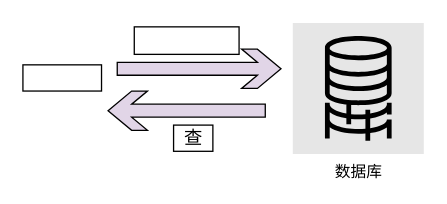
The diagram is 447 pixels wide and 204 high, and some of its shapes have lost their labels. The shapes that lost their labels are listed below. From the top down, each one's centre as x and y in pixels, then its label:
(186,40): 增、删、改
(62,77): SQL
